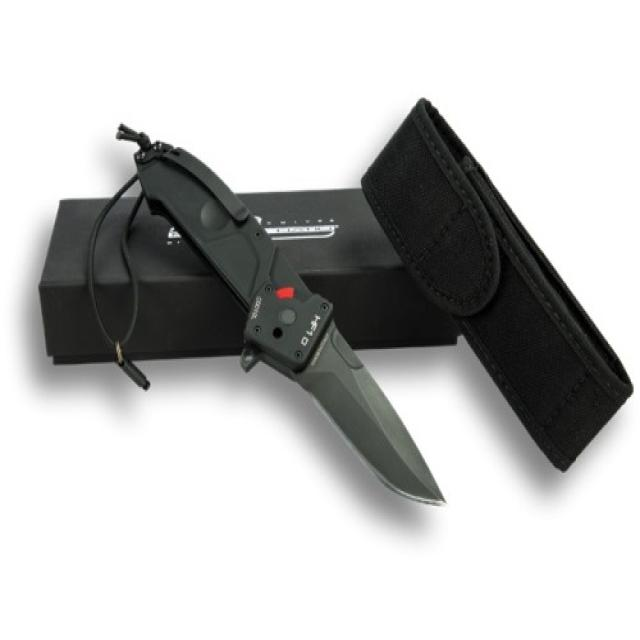knife: (124, 127, 454, 521)
